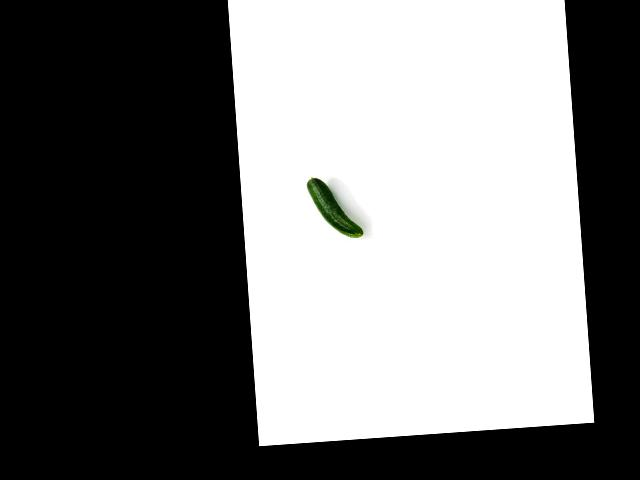cucumber: (306, 174, 364, 240)
